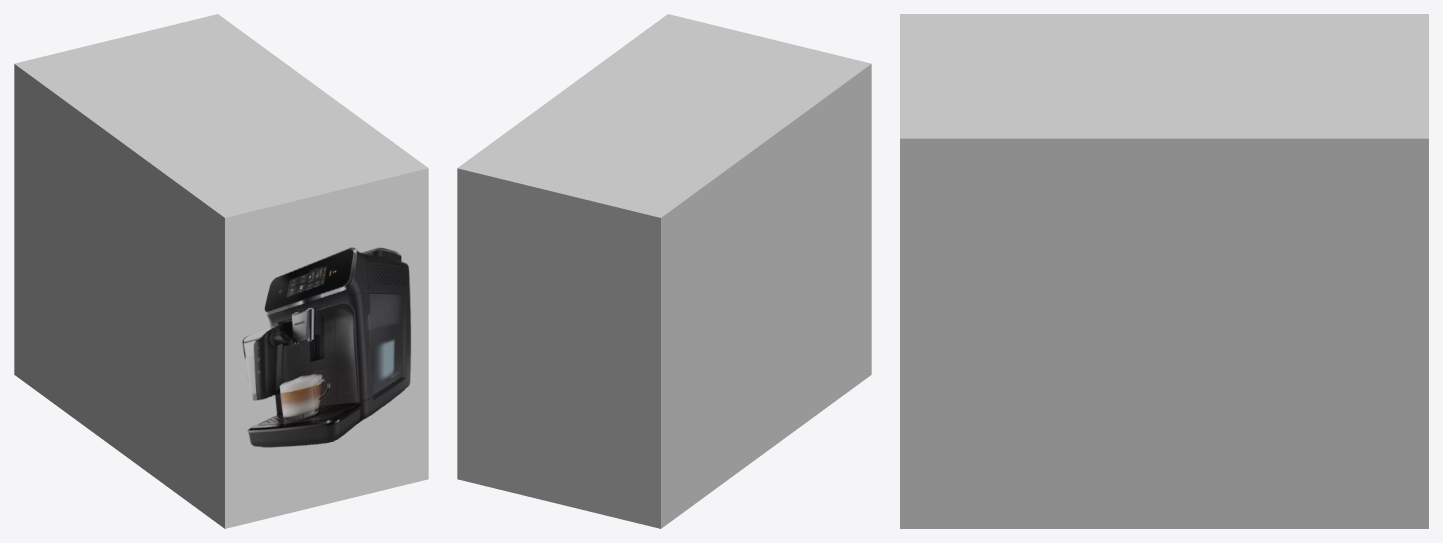
The picture shows the model from 3 angles, left to right: view 1: azimuth 30°, elevation 25°; view 2: azimuth 150°, elevation 25°; view 3: azimuth 270°, elevation 25°; orthographic projection. The views are drawn at different scales.
Parts seen in each view (by area): view 1: product; view 2: product; view 3: product.
Boxes of the visible parts, x1,y1,x2,y2 form: product: (14,14,428,528); product: (457,14,871,528); product: (900,14,1428,528).
Size of the model in its own units: 0.24 by 0.35 by 0.43.
2 materials, 1 textured.
